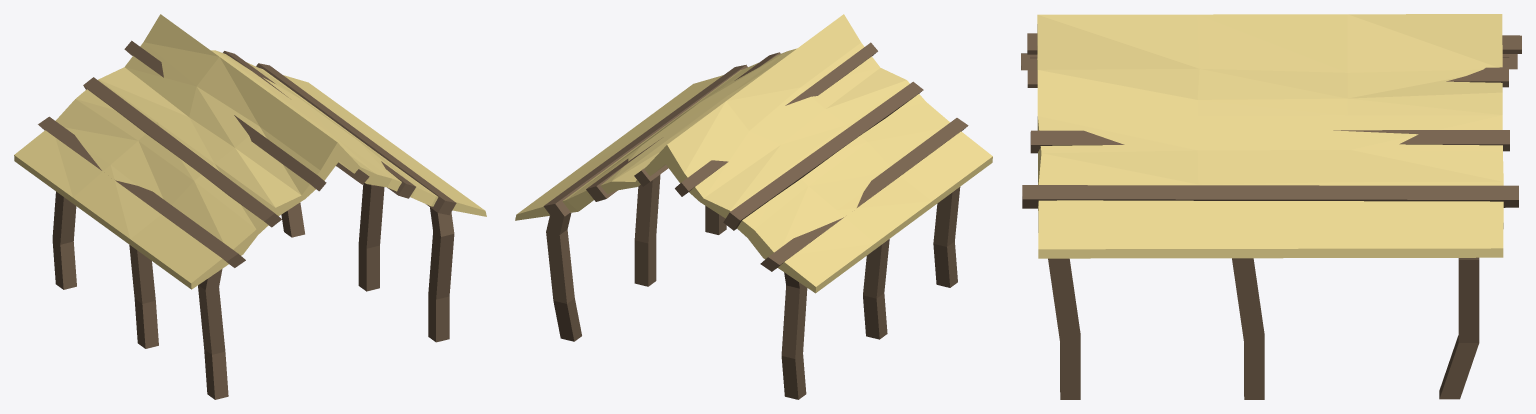
Rendered from Veranda_1.fbx.
The picture shows the model from 3 angles, left to right: view 1: azimuth 30°, elevation 25°; view 2: azimuth 150°, elevation 25°; view 3: azimuth 270°, elevation 25°; orthographic projection. The views are drawn at different scales.
Parts seen in each view (by area): view 1: Veranda_1; view 2: Veranda_1; view 3: Veranda_1.
Boxes of the visible parts, left/top/right/bottom form: Veranda_1: left=14, top=14, right=486, bottom=399; Veranda_1: left=515, top=14, right=992, bottom=399; Veranda_1: left=1021, top=14, right=1521, bottom=399.
Bounding box in the file's own units: 496 × 370 × 547.
1 material, 1 textured.
